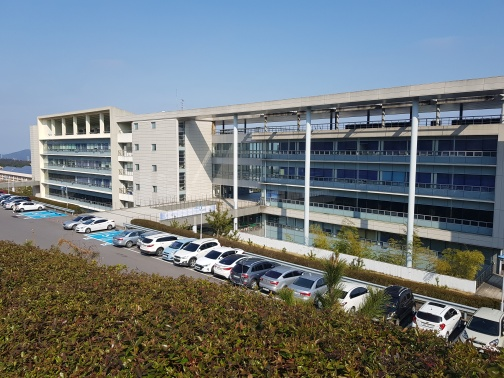Engineering College Building 4: (32, 99, 502, 214), (263, 114, 494, 243), (55, 119, 204, 206)
